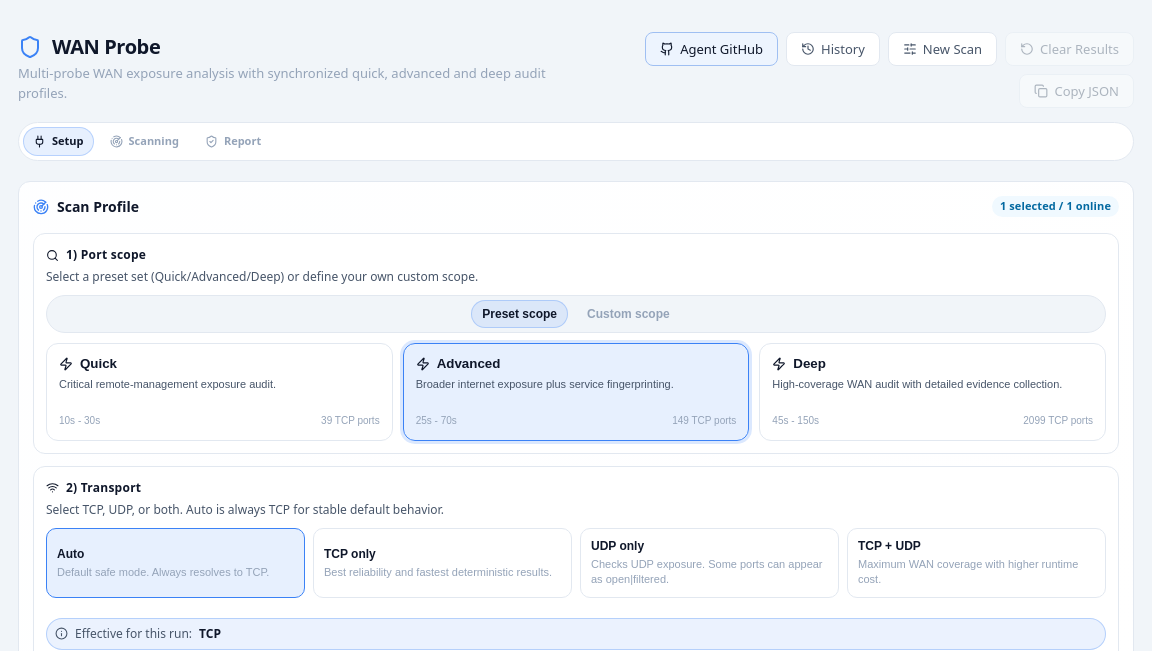
WanProbe scan flow › sends transport=tcp when TCP-only is selected with custom scope
Click the button "Custom scope".
click(628, 314)  # box [576, 300, 681, 328]
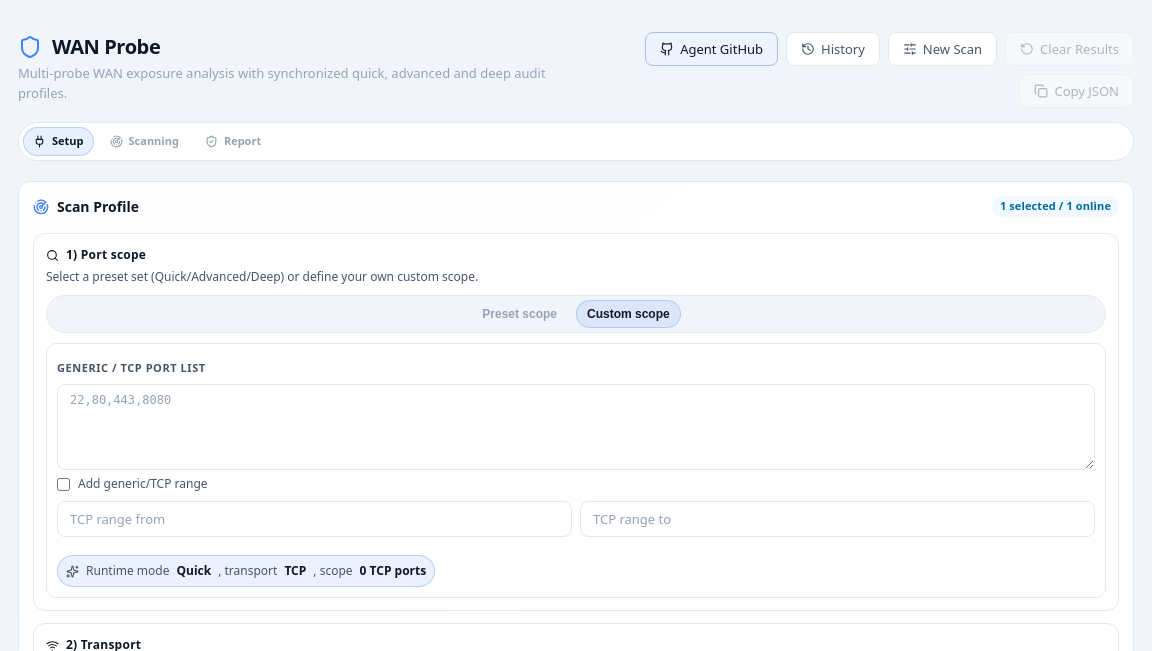
Type "80,443,8443" into the text box with placeholder "22,80,443,8080".
click(576, 426); type("80,443,8443")  # box [57, 383, 1095, 469]
(page scrolled)
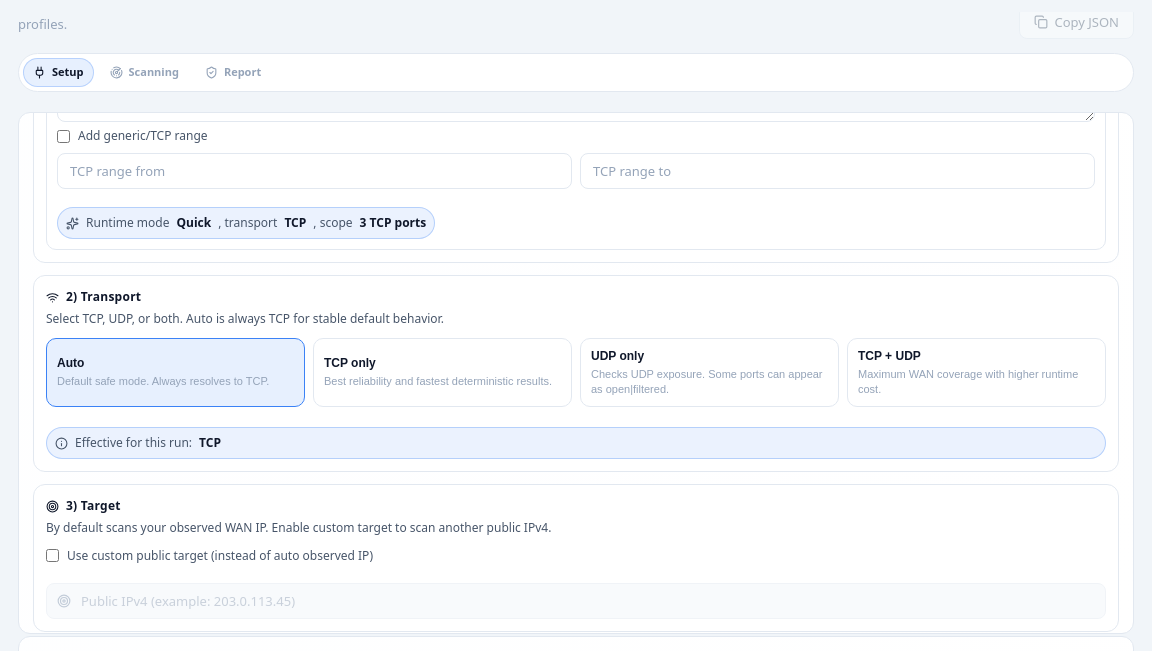
Click the button "TCP only".
click(442, 372)  # box [313, 337, 572, 407]
(page scrolled)
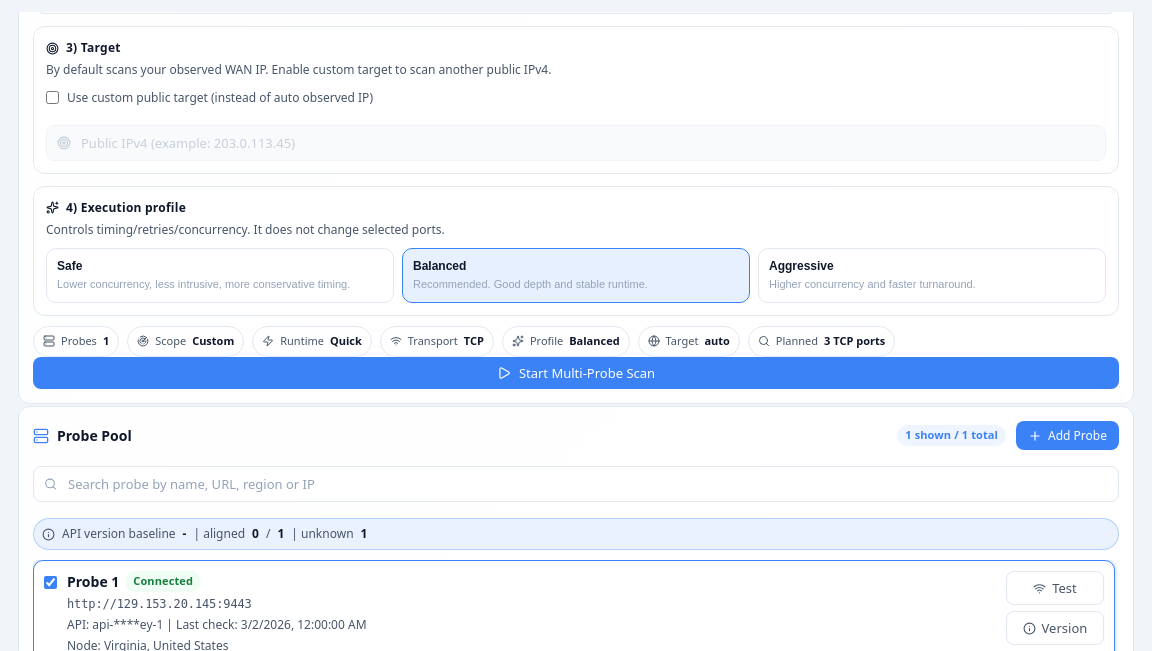
Click the button "Start Multi-Probe Scan".
click(576, 372)  # box [33, 356, 1119, 388]
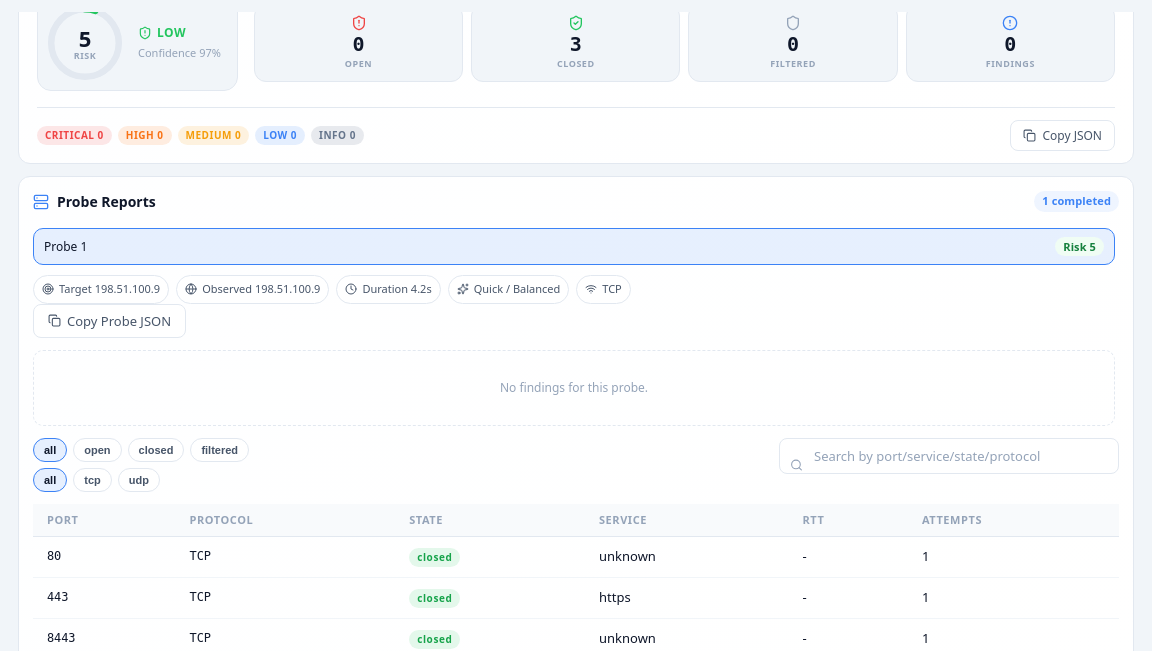
Check: the button "tcp" is shown, box [73, 467, 112, 491]
